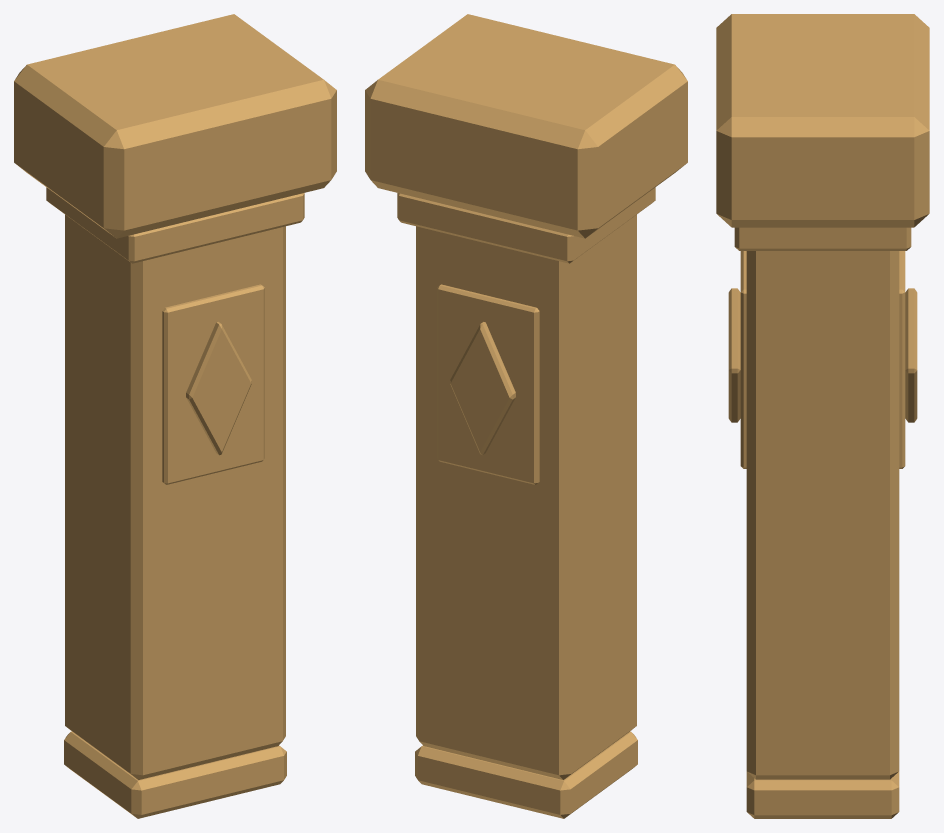
Rendered from SM_MarshwardWaymarker_01.fbx.
The picture shows the model from 3 angles, left to right: view 1: azimuth 30°, elevation 25°; view 2: azimuth 150°, elevation 25°; view 3: azimuth 270°, elevation 25°; orthographic projection.
Parts seen in each view (by area): view 1: SM_MarshwardWaymarker_01; view 2: SM_MarshwardWaymarker_01; view 3: SM_MarshwardWaymarker_01.
Boxes of the visible parts, x1,y1,x2,y2 form: SM_MarshwardWaymarker_01: (14, 14, 336, 818); SM_MarshwardWaymarker_01: (365, 14, 687, 818); SM_MarshwardWaymarker_01: (716, 14, 929, 818).
Size of what is drawn, in the model's own units: 180 by 140 by 520.
